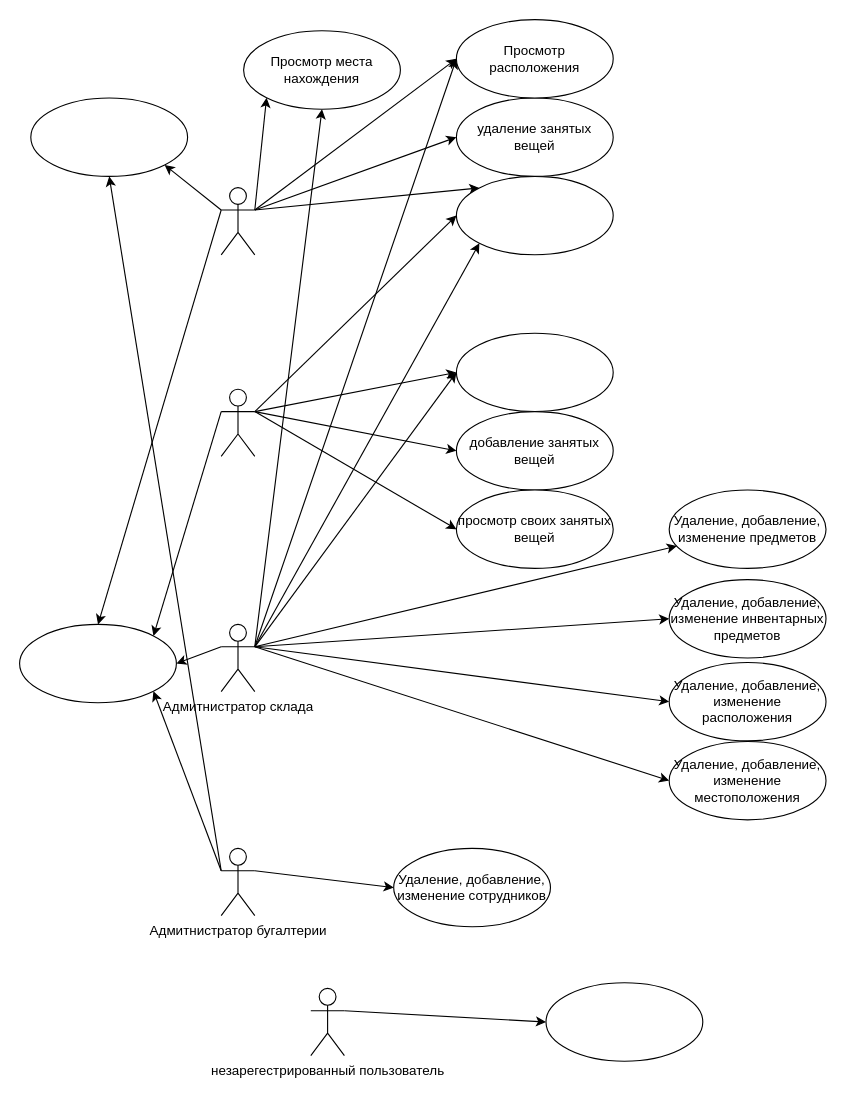
This 846x1099 diagram has some shape labels left out. Here are the shapes that lost their labels. From the top down, the centre of each, then its label:
At (x=109, y=136): "Просмотр сотрудников".
At (x=237, y=220): "Кладовщик".
At (x=534, y=215): "Просмотр занятых вещей".
At (x=534, y=372): "Просмотр предметов".
At (x=237, y=422): "Сотрудник".
At (x=97, y=663): "выход".
At (x=624, y=1021): "авторизация".
